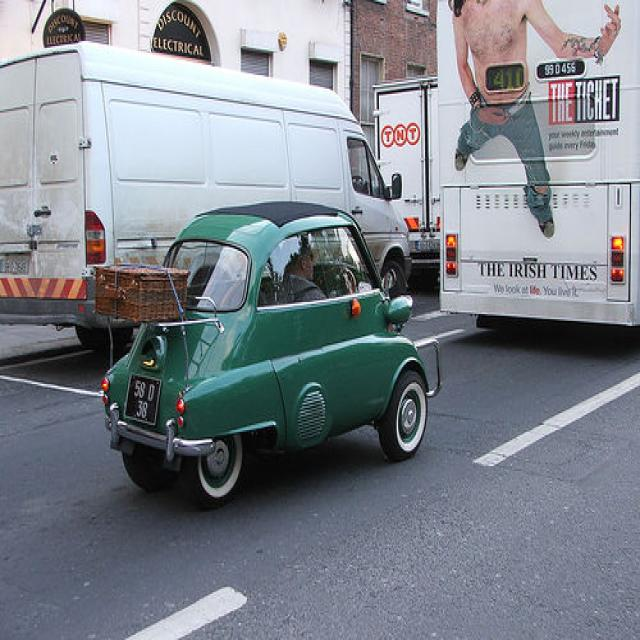Car: (0, 30, 411, 362), (109, 196, 438, 497)
